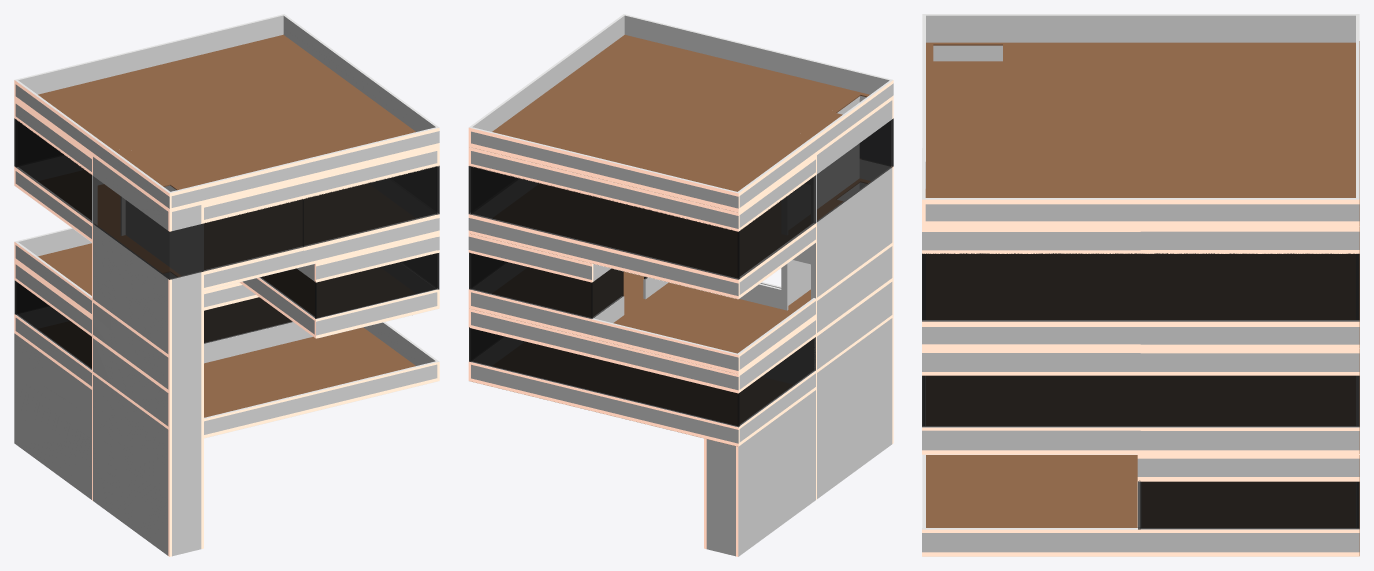
Rendered from tours4.glb.
The picture shows the model from 3 angles, left to right: view 1: azimuth 30°, elevation 25°; view 2: azimuth 150°, elevation 25°; view 3: azimuth 270°, elevation 25°; orthographic projection. The views are drawn at different scales.
Parts seen in each view (by area): view 1: murs, polySurface26, sols, vitres, etages; view 2: murs, polySurface26, sols, vitres, etages, plafonds; view 3: murs, sols, vitres, etages, polySurface26, plafonds.
Boxes of the visible parts, x1=… form: murs: x1=14, y1=14, x2=439, y2=438; polySurface26: x1=14, y1=147, x2=203, y2=556; sols: x1=38, y1=34, x2=415, y2=417; vitres: x1=14, y1=118, x2=439, y2=369; etages: x1=115, y1=148, x2=180, y2=276; murs: x1=468, y1=14, x2=893, y2=446; polySurface26: x1=704, y1=92, x2=893, y2=556; sols: x1=470, y1=35, x2=857, y2=446; vitres: x1=468, y1=166, x2=815, y2=427; etages: x1=784, y1=92, x2=870, y2=311; plafonds: x1=468, y1=147, x2=814, y2=438; murs: x1=922, y1=14, x2=1359, y2=556; sols: x1=925, y1=41, x2=1359, y2=555; vitres: x1=922, y1=253, x2=1359, y2=529; etages: x1=926, y1=42, x2=1138, y2=63; polySurface26: x1=926, y1=42, x2=1141, y2=64; plafonds: x1=922, y1=454, x2=1359, y2=556.
Size of what is drawn, in the model's own units: 15.42 by 19.84 by 15.37.
Materials: 5 (1 with a texture image).
